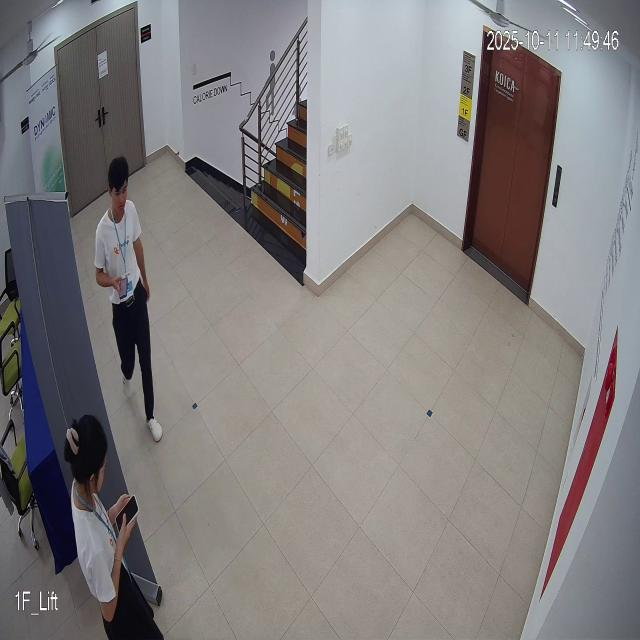face: (107, 154, 134, 219)
